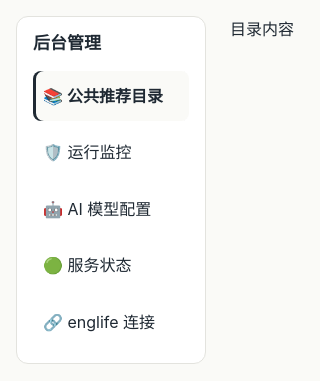
后台默认目录并通过侧边栏切换，保留当前项高亮
expect the text "目录内容" is shown: met, box [230,19,294,39]
Click the link "🛡️ 运行监控" at (87, 152), box [43,142,132,162]
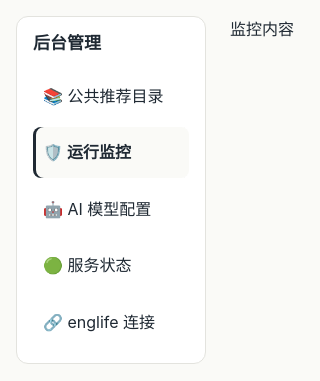
expect the text "监控内容" is shown: met, box [230,19,294,39]
